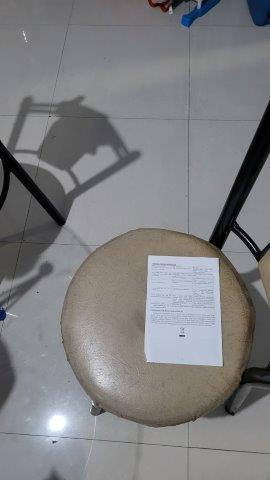kertas: (143, 253, 222, 367)
